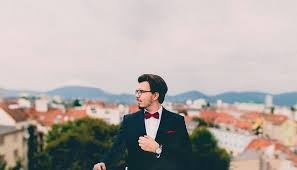Glasses: (130, 89, 154, 98)
